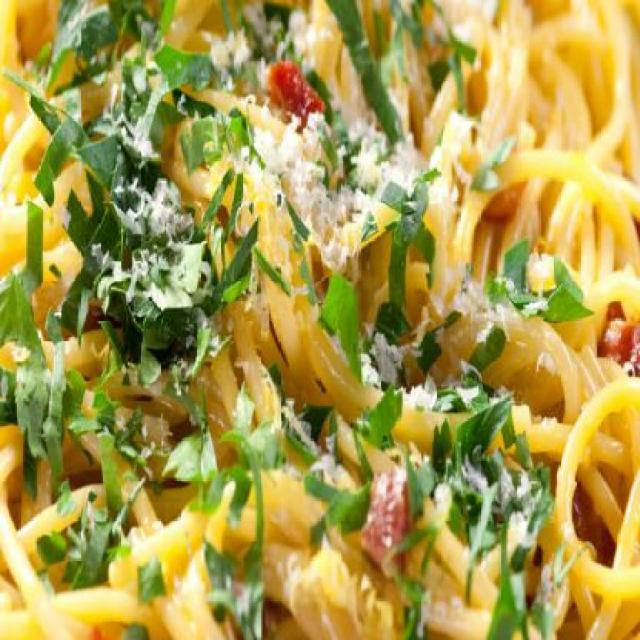Pasta with carbonara sauce: (9, 22, 618, 608)
